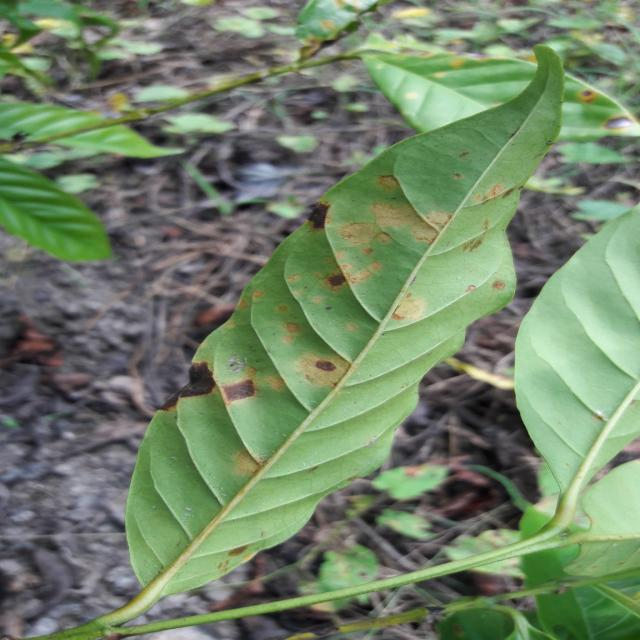Enfermedad-Roya: (118, 45, 564, 627)
